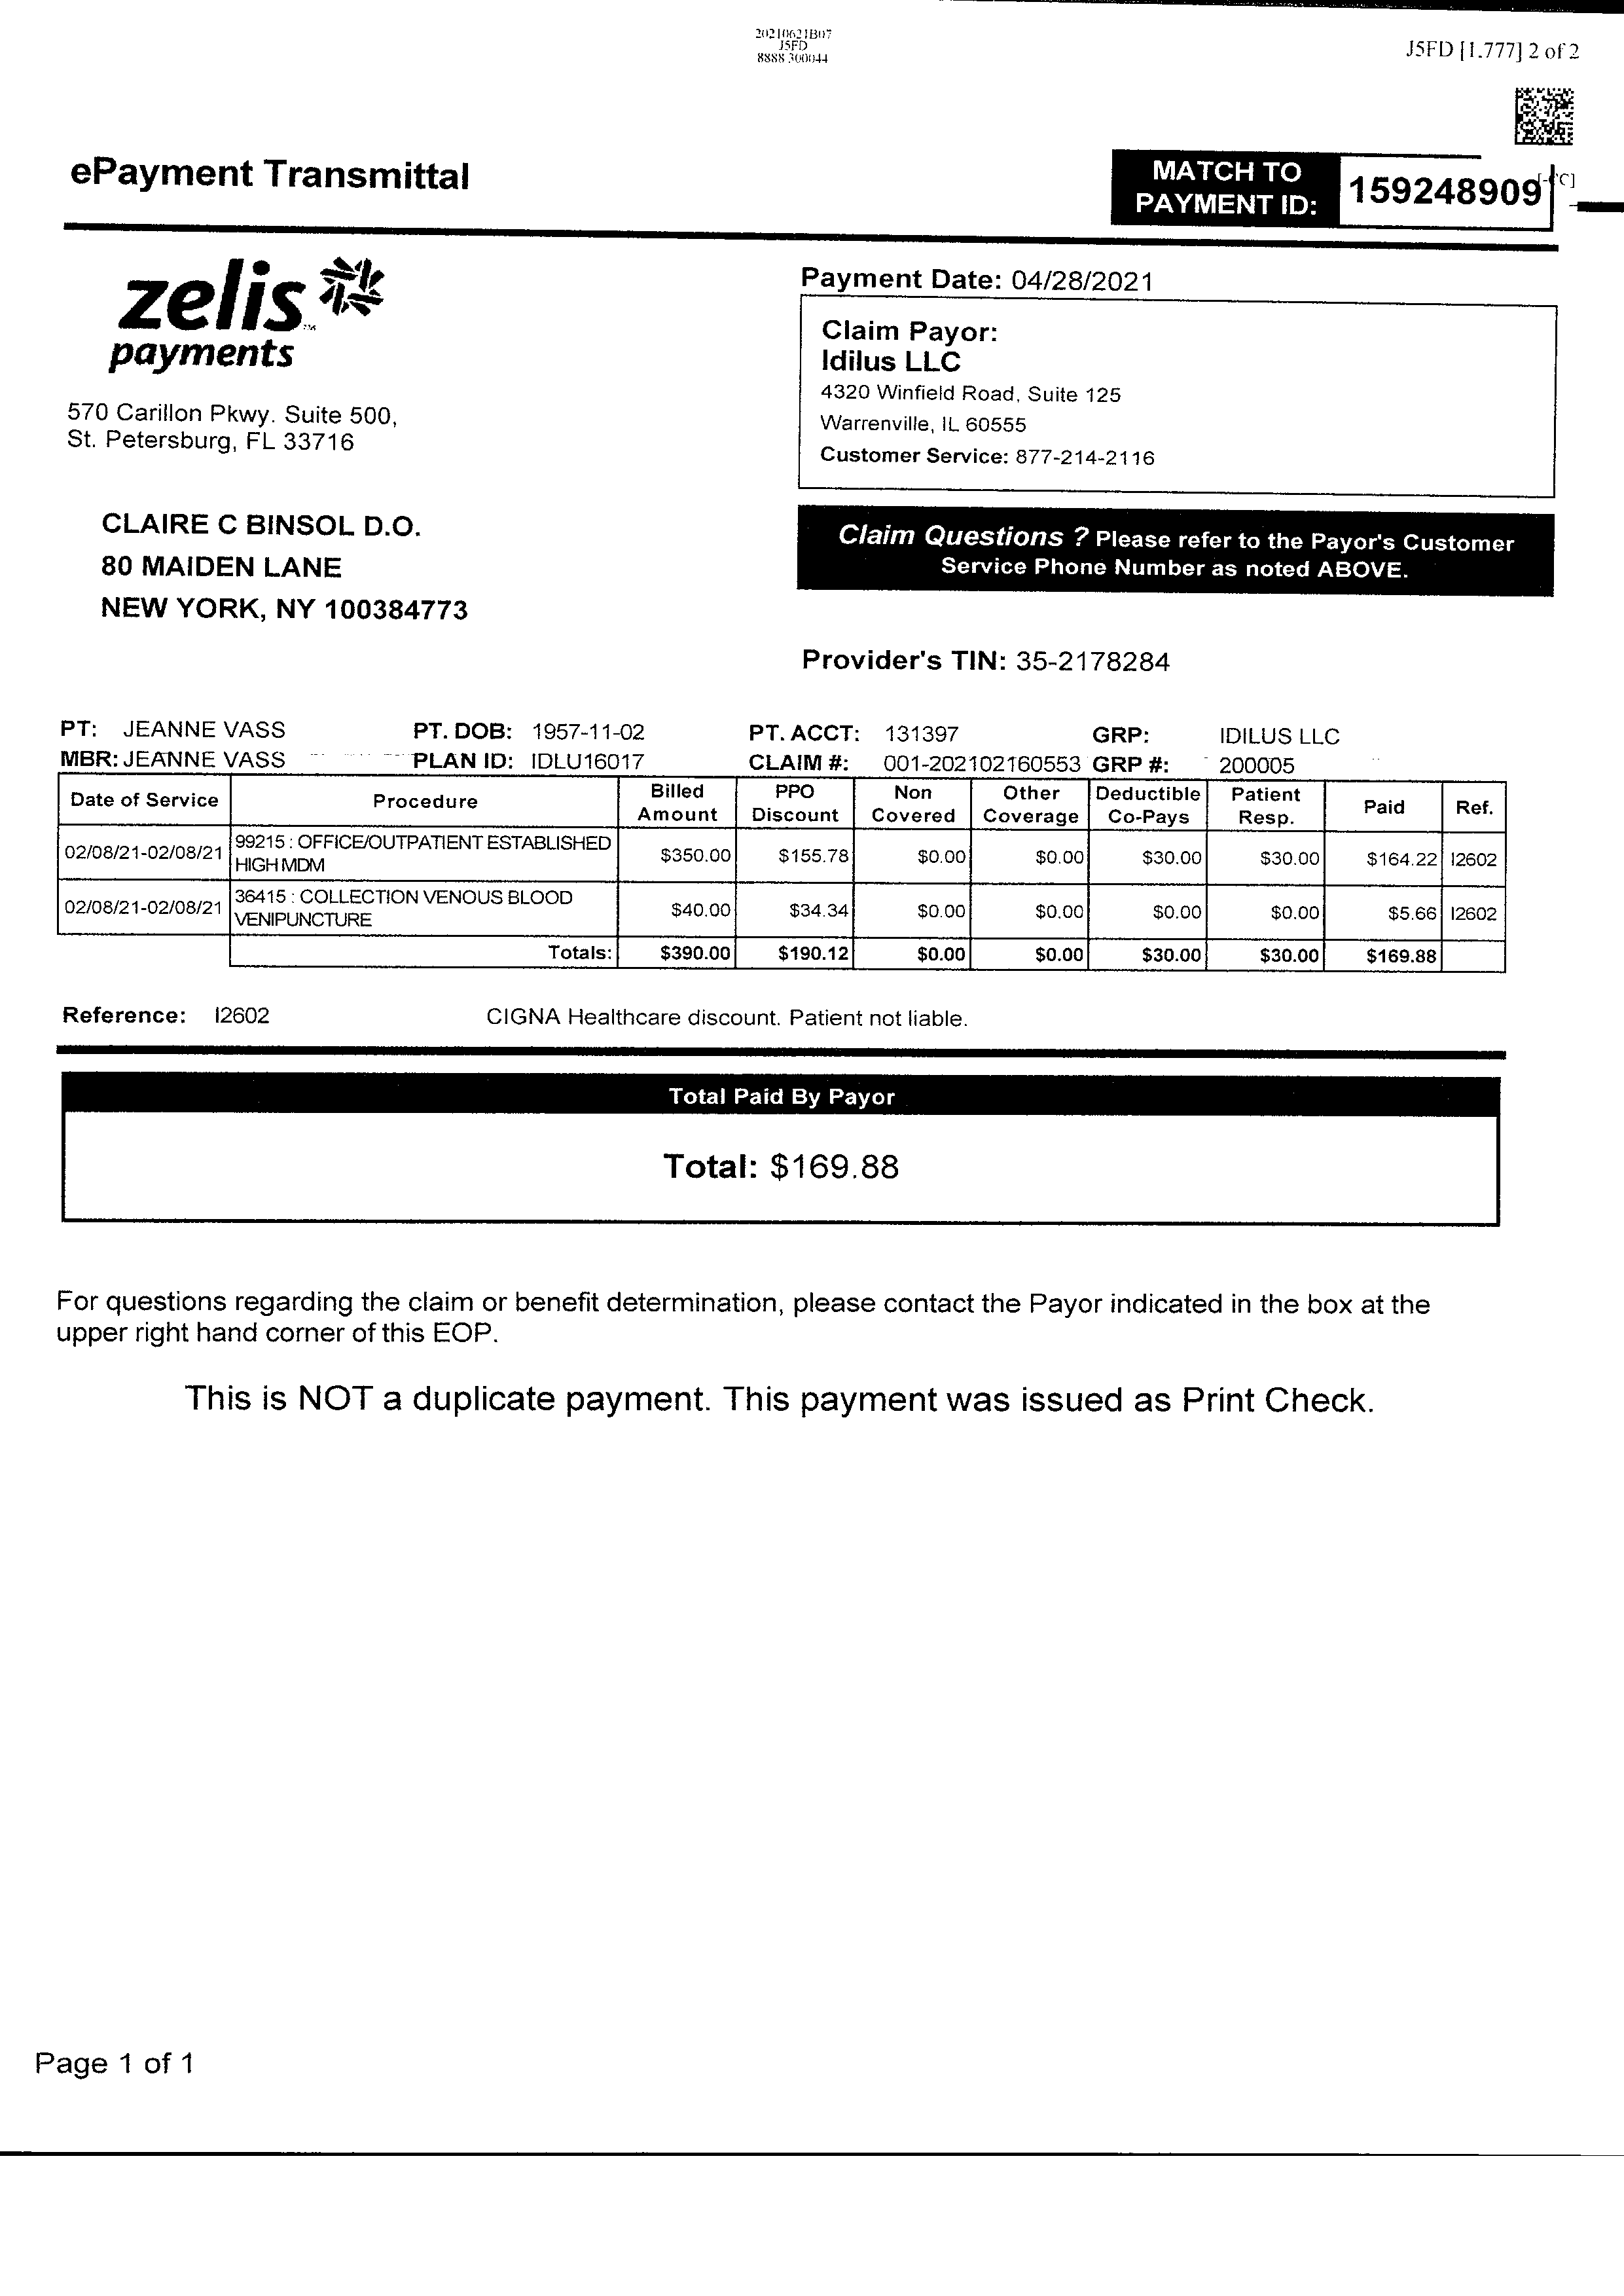data: (796, 283, 1566, 512), (62, 494, 497, 649)
table: (37, 705, 1520, 990)
